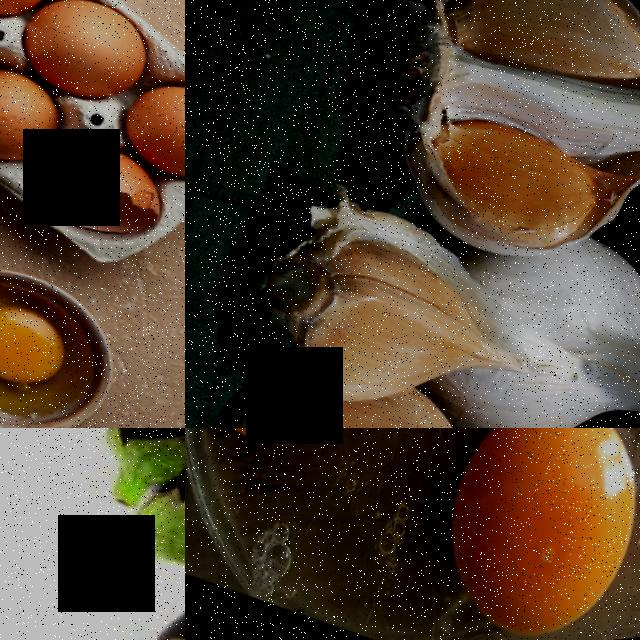egg_: (379, 428, 640, 640), (0, 0, 162, 132), (100, 73, 185, 209), (0, 52, 72, 190), (0, 291, 68, 410)
eggplant: (59, 428, 185, 561)
garlic: (204, 192, 501, 428), (375, 86, 634, 292), (405, 227, 640, 428), (414, 0, 640, 147), (194, 350, 511, 428)
